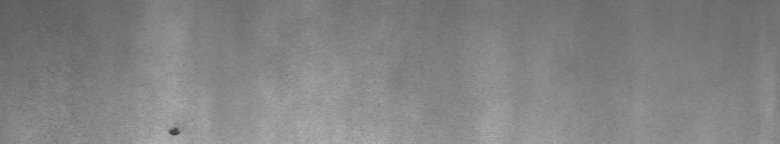fi: (161, 120, 185, 136)
